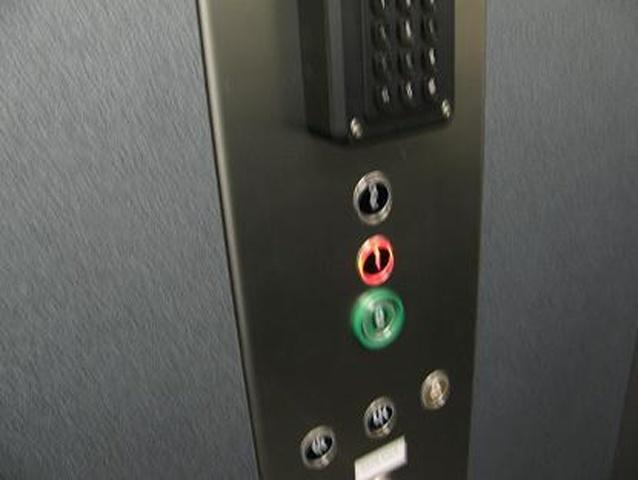1: (352, 229, 396, 287)
alarm: (417, 366, 452, 411)
blur: (347, 288, 407, 350), (348, 164, 396, 226), (296, 420, 339, 469)
close: (359, 392, 398, 439)
